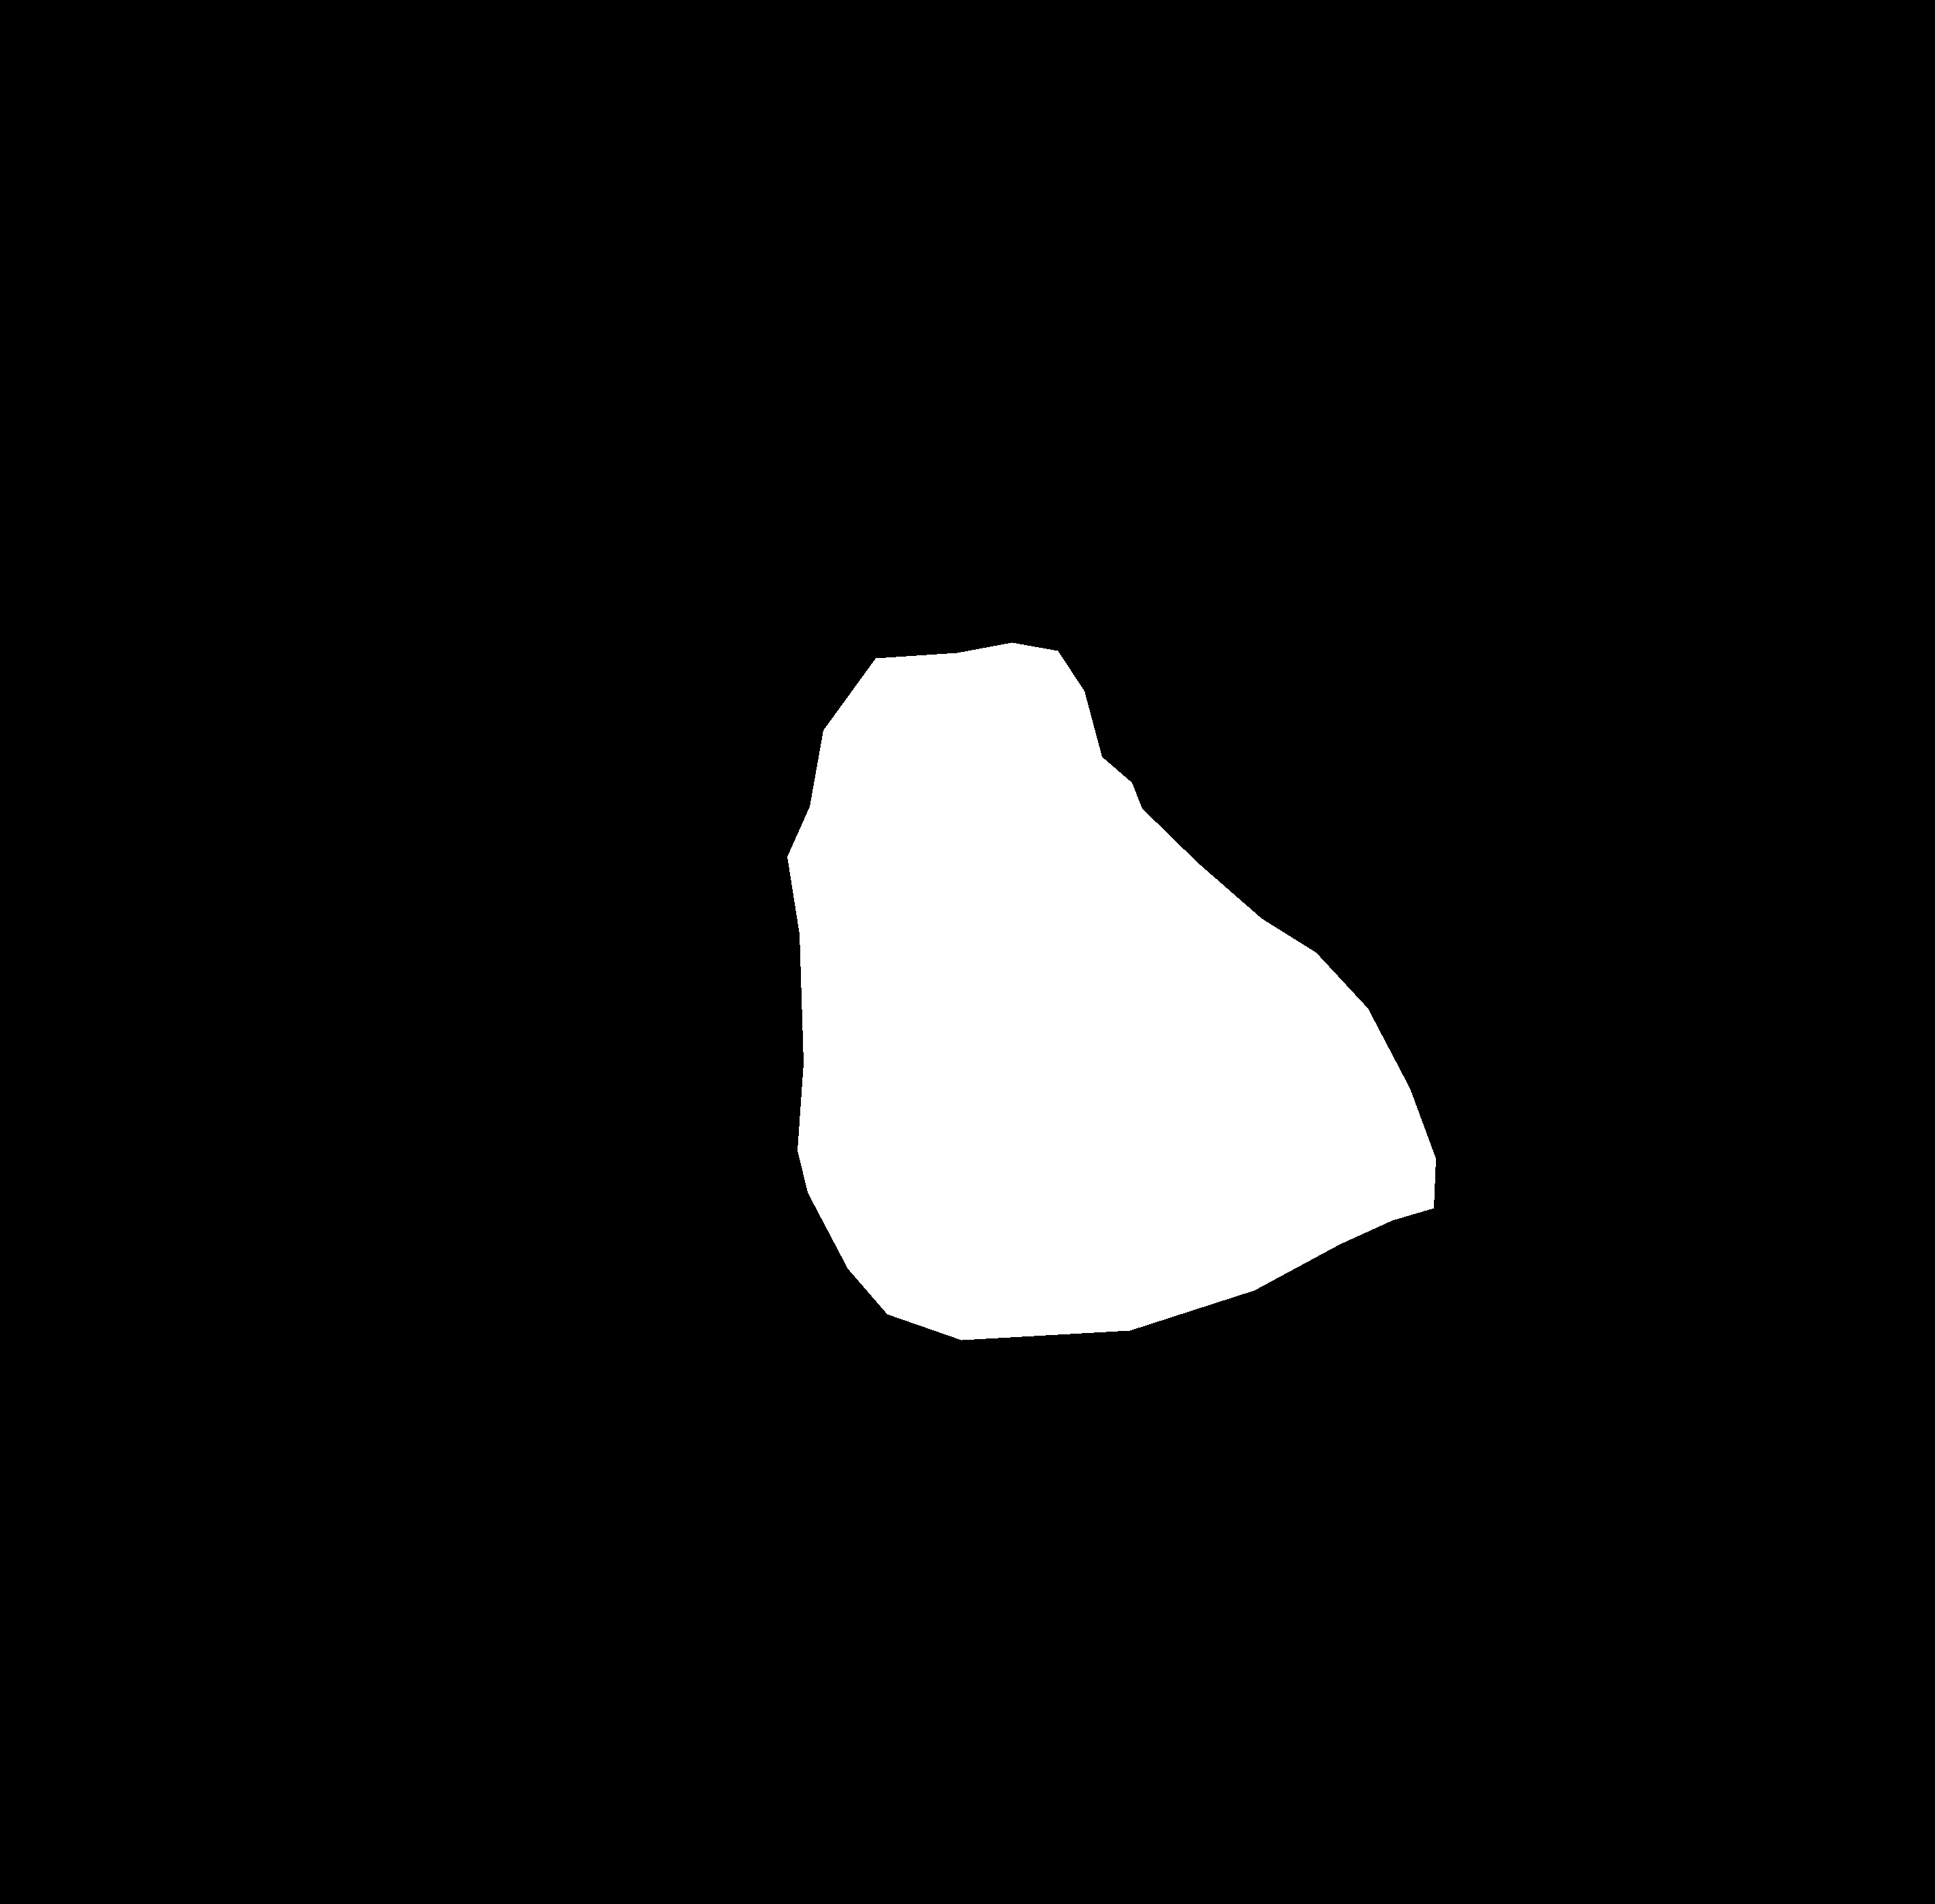heart: (788, 642, 1435, 1339)
left_lung: (415, 160, 879, 1377)
right_lung: (997, 162, 1705, 1372)
